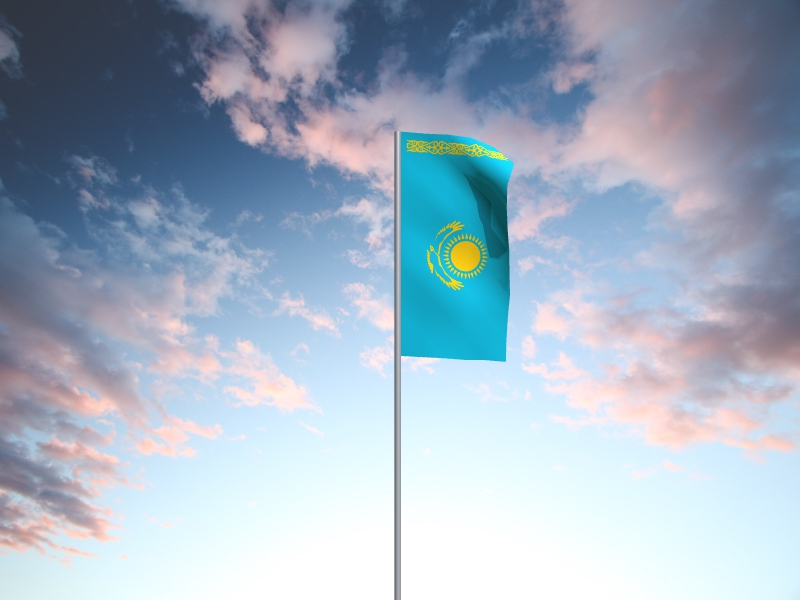kz: (401, 132, 516, 364)
